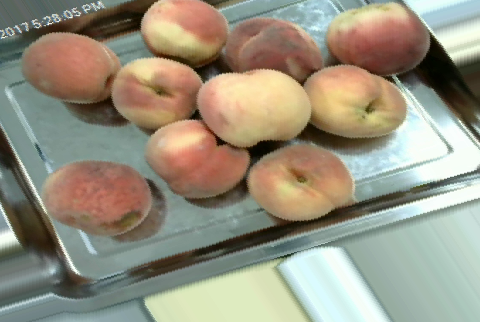Peach: (197, 66, 312, 149), (144, 119, 251, 203), (41, 158, 153, 235), (248, 142, 354, 220), (302, 62, 407, 140), (328, 3, 432, 75), (109, 56, 201, 133), (23, 31, 118, 104), (223, 16, 321, 78), (138, 0, 229, 63)
